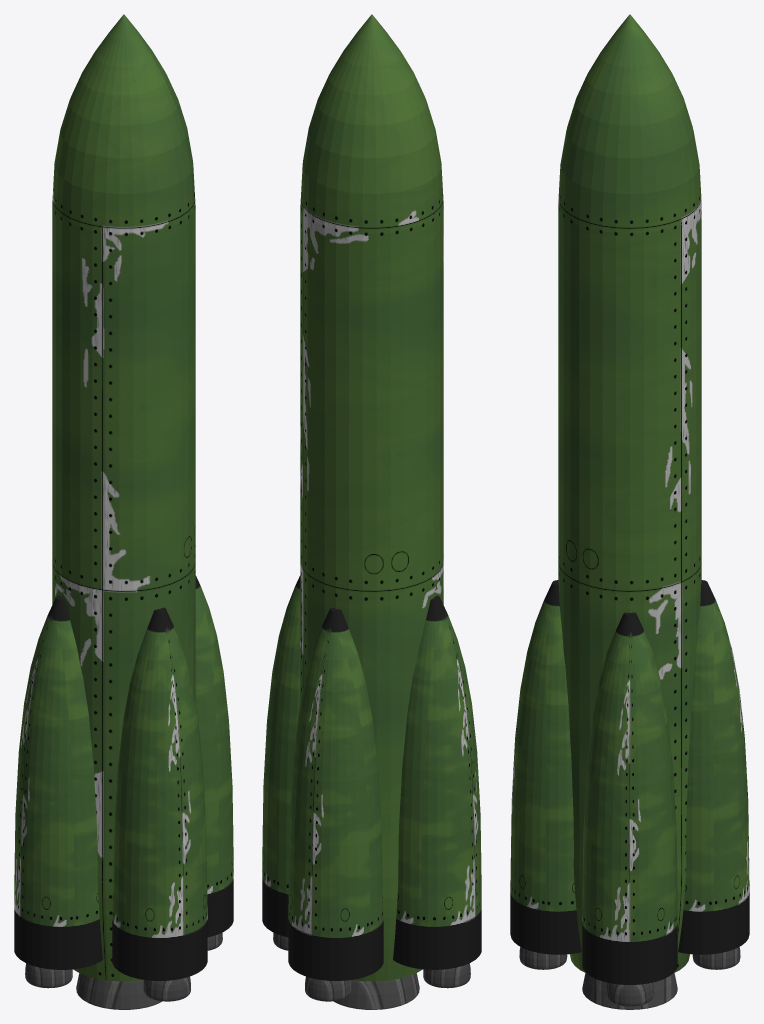
File: russianRocket.obj
The picture shows the model from 3 angles, left to right: view 1: azimuth 30°, elevation 25°; view 2: azimuth 150°, elevation 25°; view 3: azimuth 270°, elevation 25°; orthographic projection.
Visible parts, largest first — view 1: missile01_1, booster01_3, booster04_3, booster02_3, jet05_2, jet01_4, jet08_4; view 2: missile01_1, booster03_3, booster04_3, booster02_3, jet05_2, jet07_4, jet08_4; view 3: missile01_1, booster02_3, booster01_3, booster03_3, jet05_2, jet06_4, jet07_4, jet01_4.
Boxes of the visible parts, x1,y1,x2,y2 form: missile01_1: (52, 14, 195, 981); booster01_3: (112, 607, 207, 980); booster04_3: (14, 595, 102, 969); booster02_3: (195, 575, 233, 937); jet05_2: (76, 973, 161, 1009); jet01_4: (143, 976, 190, 1001); jet08_4: (25, 963, 72, 988); missile01_1: (300, 14, 443, 981); booster03_3: (288, 607, 383, 980); booster04_3: (393, 595, 481, 969); booster02_3: (262, 575, 300, 937); jet05_2: (334, 973, 419, 1009); jet07_4: (305, 976, 352, 1001); jet08_4: (423, 963, 470, 988); missile01_1: (558, 14, 701, 973); booster02_3: (582, 612, 677, 984); booster01_3: (510, 580, 581, 954); booster03_3: (678, 580, 749, 954); jet05_2: (582, 973, 677, 1009); jet06_4: (606, 982, 653, 1006); jet07_4: (692, 947, 740, 969); jet01_4: (519, 947, 567, 969).
Bounding box in the file's own units: 10 × 45.07 × 10.
5 materials, 3 textured.
